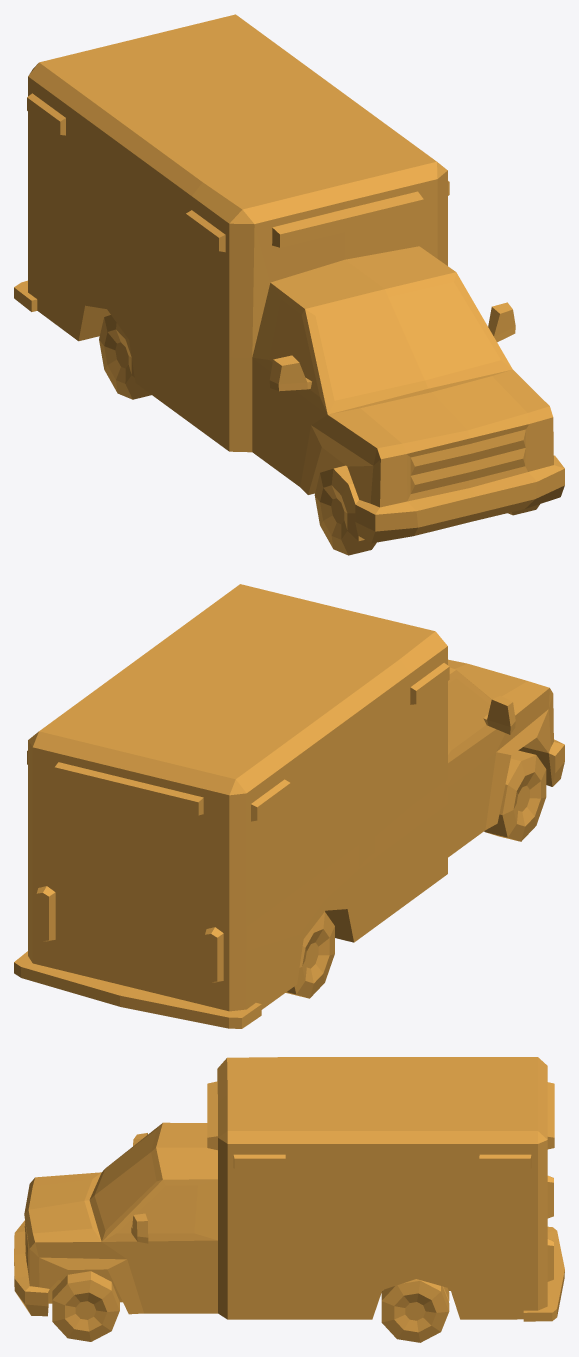
The model's file is car-ambulance-pickup.glb.
The picture shows the model from 3 angles, top to bottom: view 1: azimuth 30°, elevation 25°; view 2: azimuth 150°, elevation 25°; view 3: azimuth 270°, elevation 25°; orthographic projection. The views are drawn at different scales.
Parts seen in each view (by area): view 1: car-ambulance-pickup-base, car-ambulance-pickup-wheel_FR, car-ambulance-pickup-wheel_BR; view 2: car-ambulance-pickup-base, car-ambulance-pickup-wheel_FR, car-ambulance-pickup-wheel_BR; view 3: car-ambulance-pickup-base, car-ambulance-pickup-wheel_FL, car-ambulance-pickup-wheel_BL.
Part boxes in pixels (x1=…): car-ambulance-pickup-base: x1=14, y1=14, x2=564, y2=543; car-ambulance-pickup-wheel_FR: x1=314, y1=465, x2=376, y2=555; car-ambulance-pickup-wheel_BR: x1=99, y1=315, x2=151, y2=399; car-ambulance-pickup-base: x1=14, y1=584, x2=564, y2=1028; car-ambulance-pickup-wheel_FR: x1=484, y1=750, x2=546, y2=841; car-ambulance-pickup-wheel_BR: x1=286, y1=912, x2=334, y2=998; car-ambulance-pickup-base: x1=14, y1=1057, x2=564, y2=1321; car-ambulance-pickup-wheel_FL: x1=52, y1=1271, x2=119, y2=1341; car-ambulance-pickup-wheel_BL: x1=381, y1=1279, x2=449, y2=1342.
Bounding box in the file's own units: 2.43 × 2.66 × 6.24.
